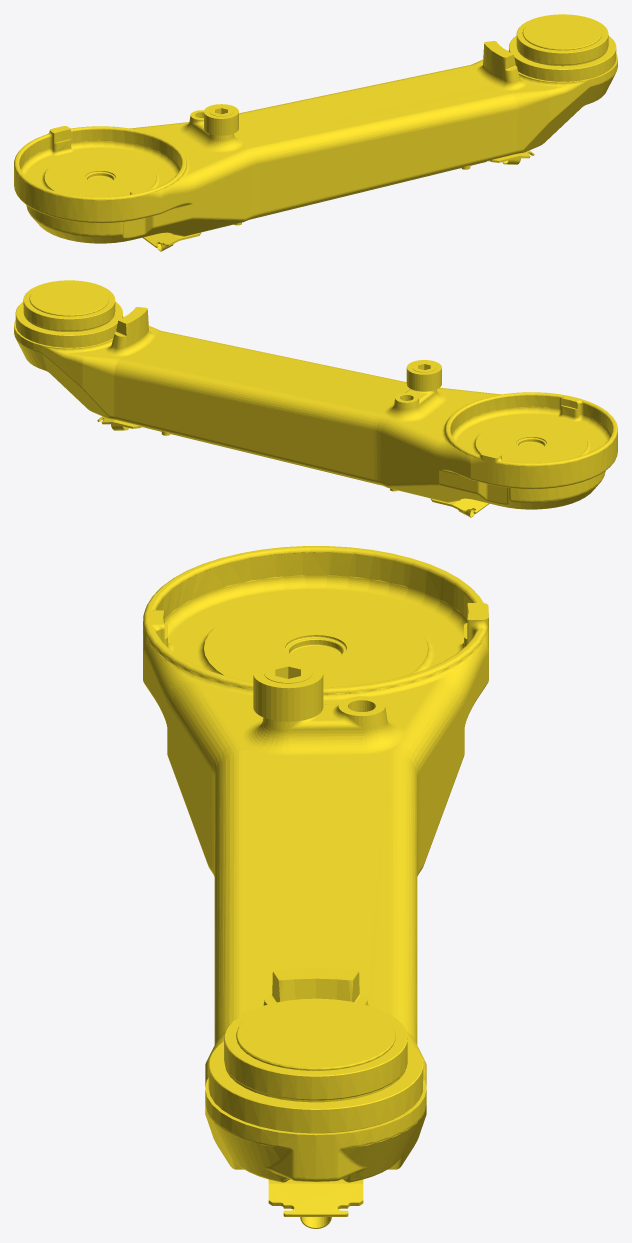
Rendered from FanucM20Link2.dae.
3 renders of one model, top to bottom at view 1: azimuth 30°, elevation 25°; view 2: azimuth 150°, elevation 25°; view 3: azimuth 270°, elevation 25°, orthographic. The views are drawn at different scales.
Parts seen in each view (by area): view 1: FanucM20Link2; view 2: FanucM20Link2; view 3: FanucM20Link2.
Boxes of the visible parts, <box> form: FanucM20Link2: <box>14,14,617,251</box>; FanucM20Link2: <box>14,280,617,517</box>; FanucM20Link2: <box>143,546,488,1228</box>.
Bounding box in the file's own units: 1 × 0.256 × 0.2147.
